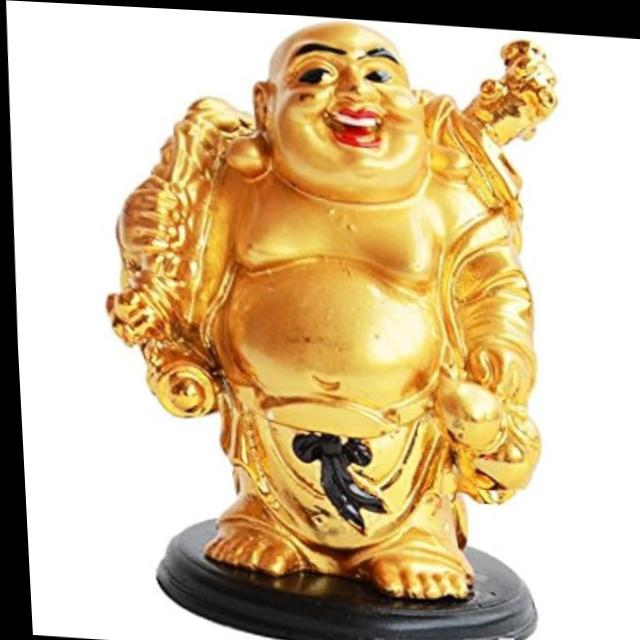Smiling Buddha: (131, 5, 544, 544)
